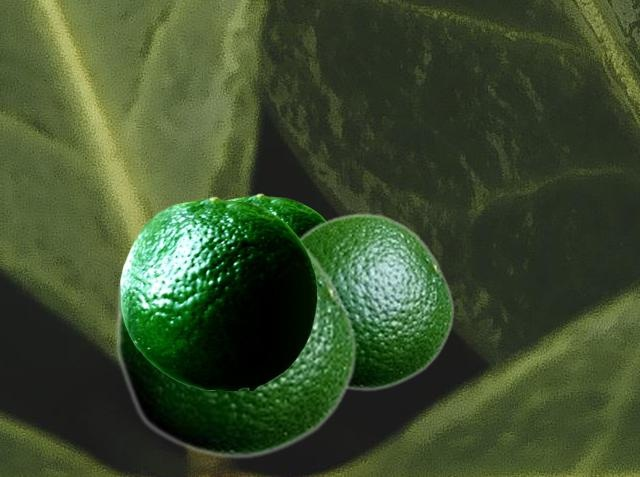calamansi: (114, 240, 357, 459), (120, 196, 316, 389), (299, 212, 454, 391), (227, 193, 325, 235)
